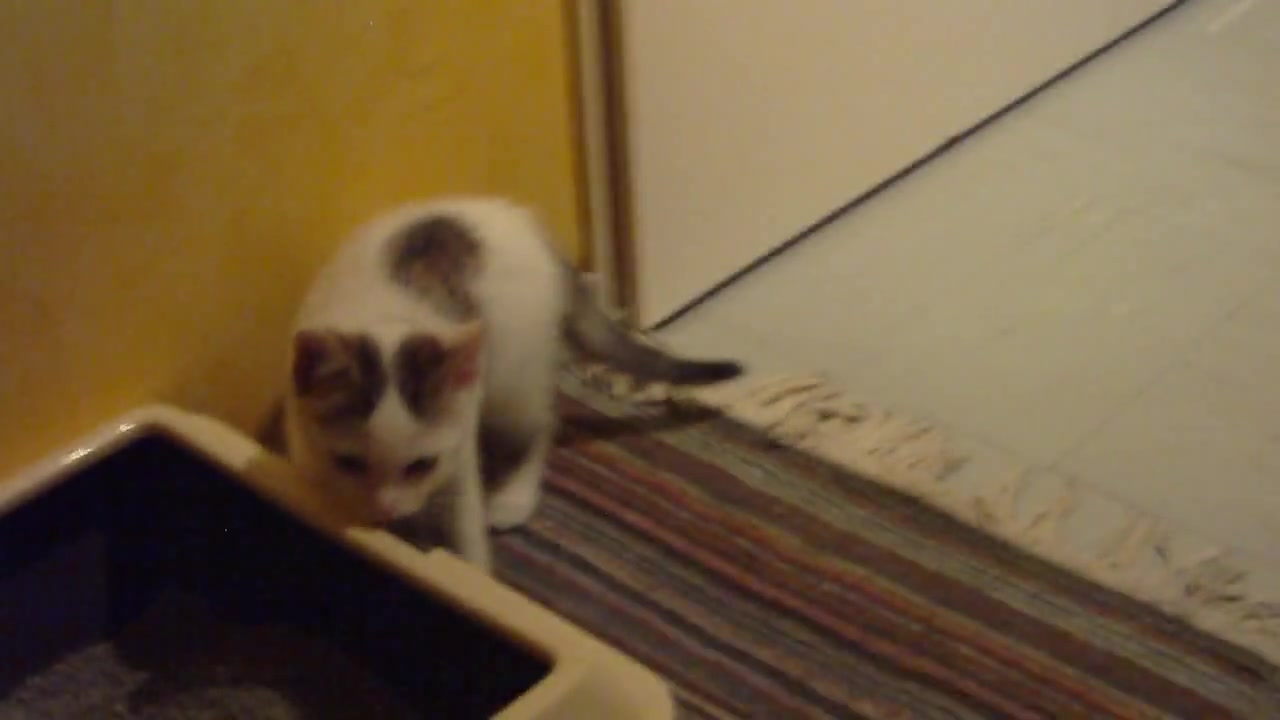cat: (283, 197, 746, 583)
